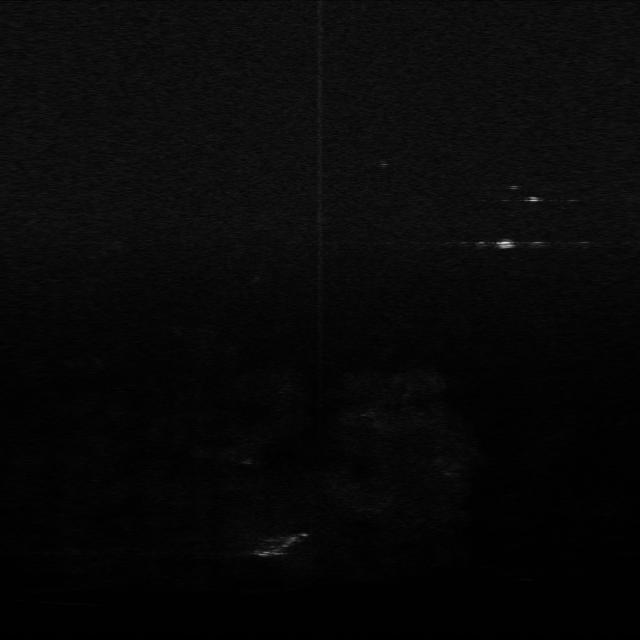rov: (492, 234, 520, 254)
